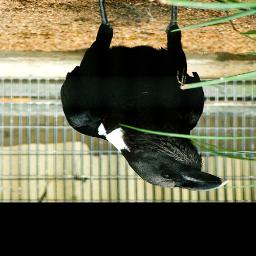Crow: (61, 0, 231, 192)
